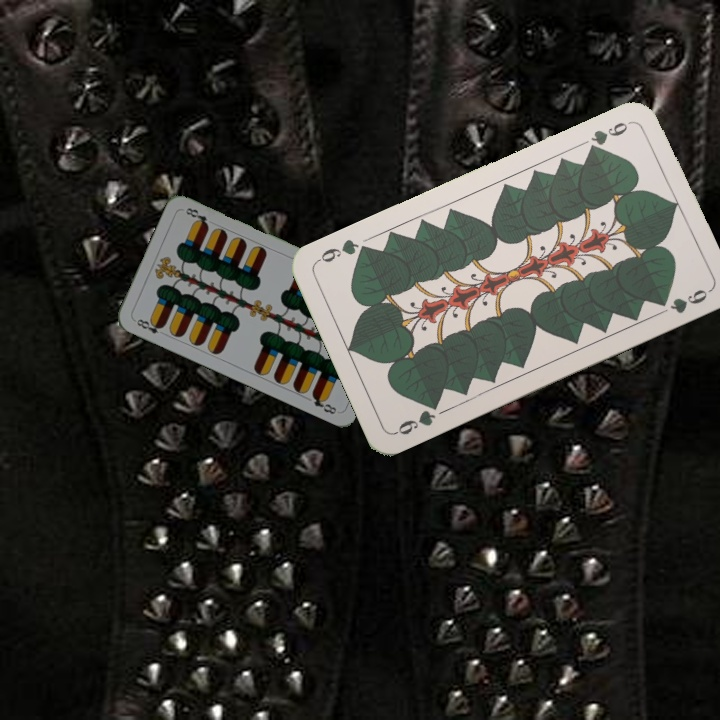E8: (130, 315, 167, 336)
G9: (391, 397, 442, 438), (584, 116, 634, 155)
